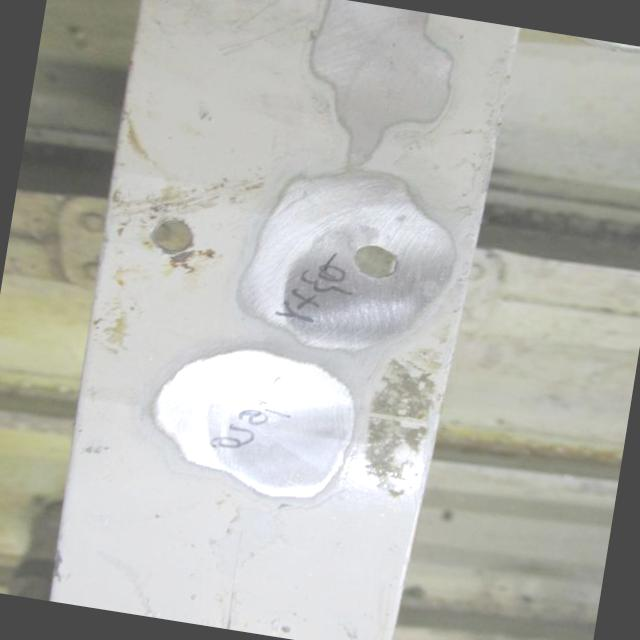Missing Fastener: (316, 228, 414, 297), (122, 200, 216, 267)
